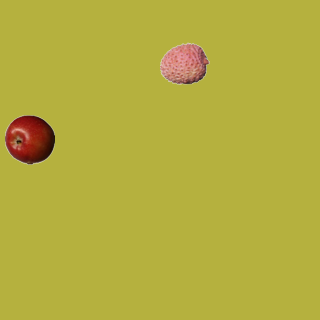Apple Braeburn: (4, 114, 54, 164)
Lychee: (159, 38, 209, 88)
